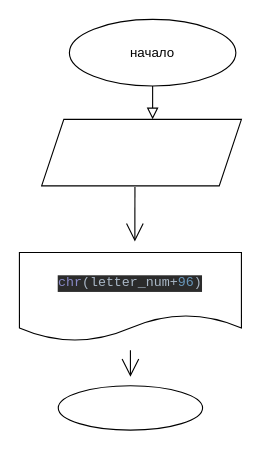
Image size: 261x450. Some labels were removed from this diagram. The centre of each missing label's shape, as x and y in pixels:
letter_num: point 141,152
конец: point 130,407
